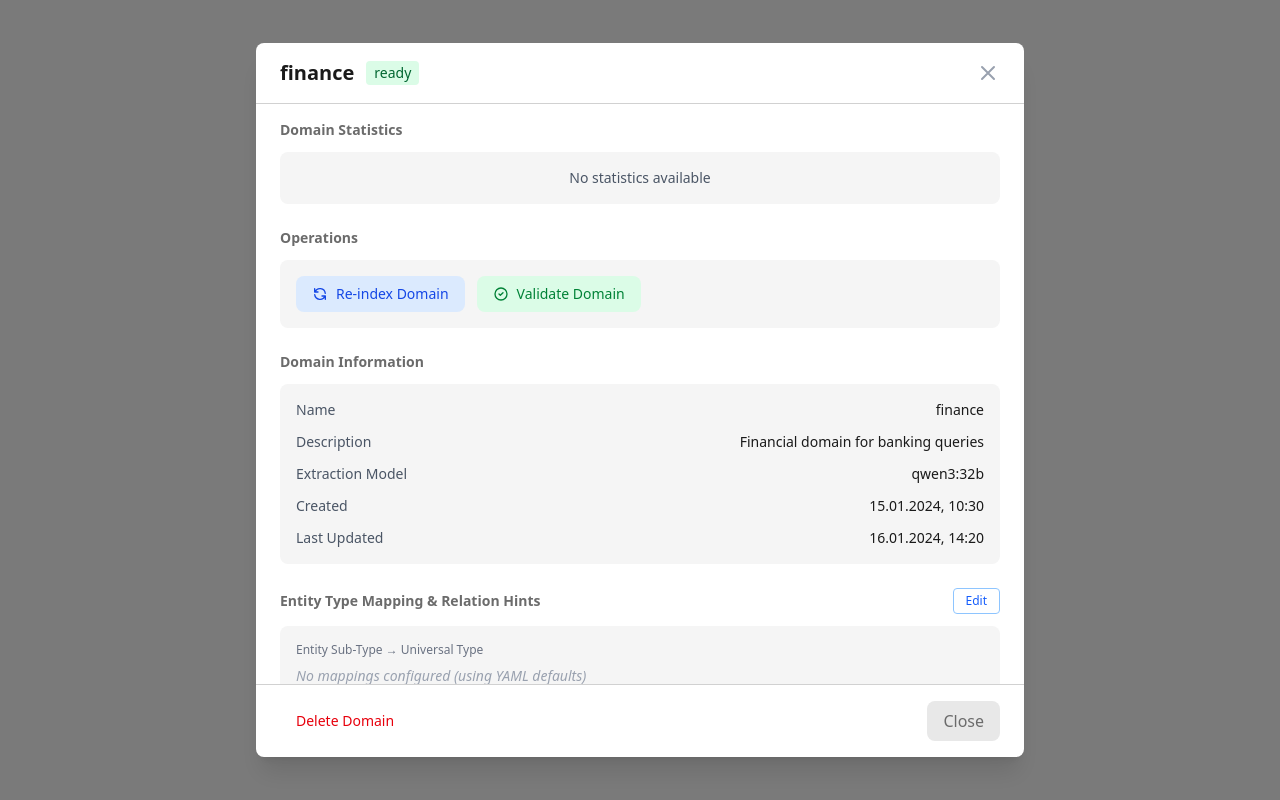
DomainDetailDialog › delete functionality › should display error message when deletion fails
The width and height of the screenshot is (1280, 800).
Note: Show confirmation
Click the button with test id "dialog-delete-button" at coordinates (345, 721), box [280,701,410,741]
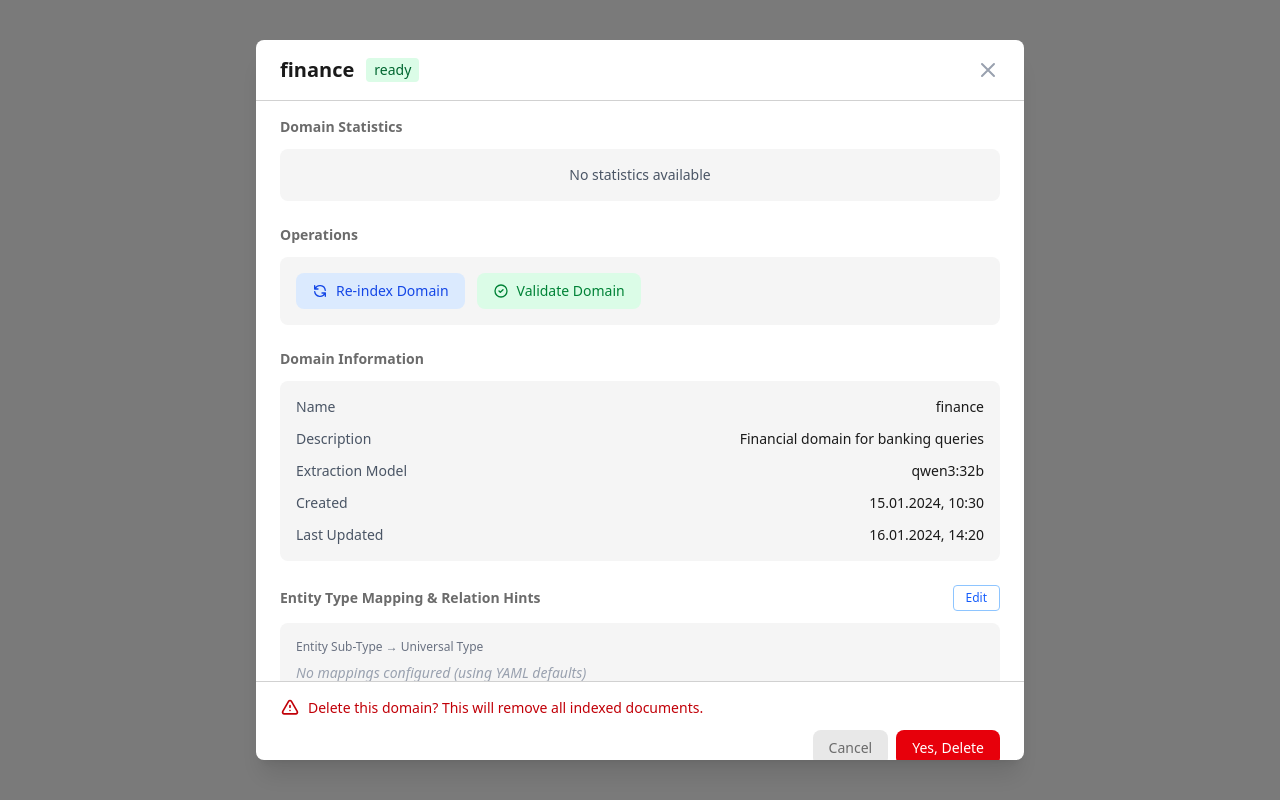
Note: Confirm deletion
Click the button with test id "dialog-delete-confirm-button" at coordinates (948, 748), box [896,730,1000,766]
(page scrolled)
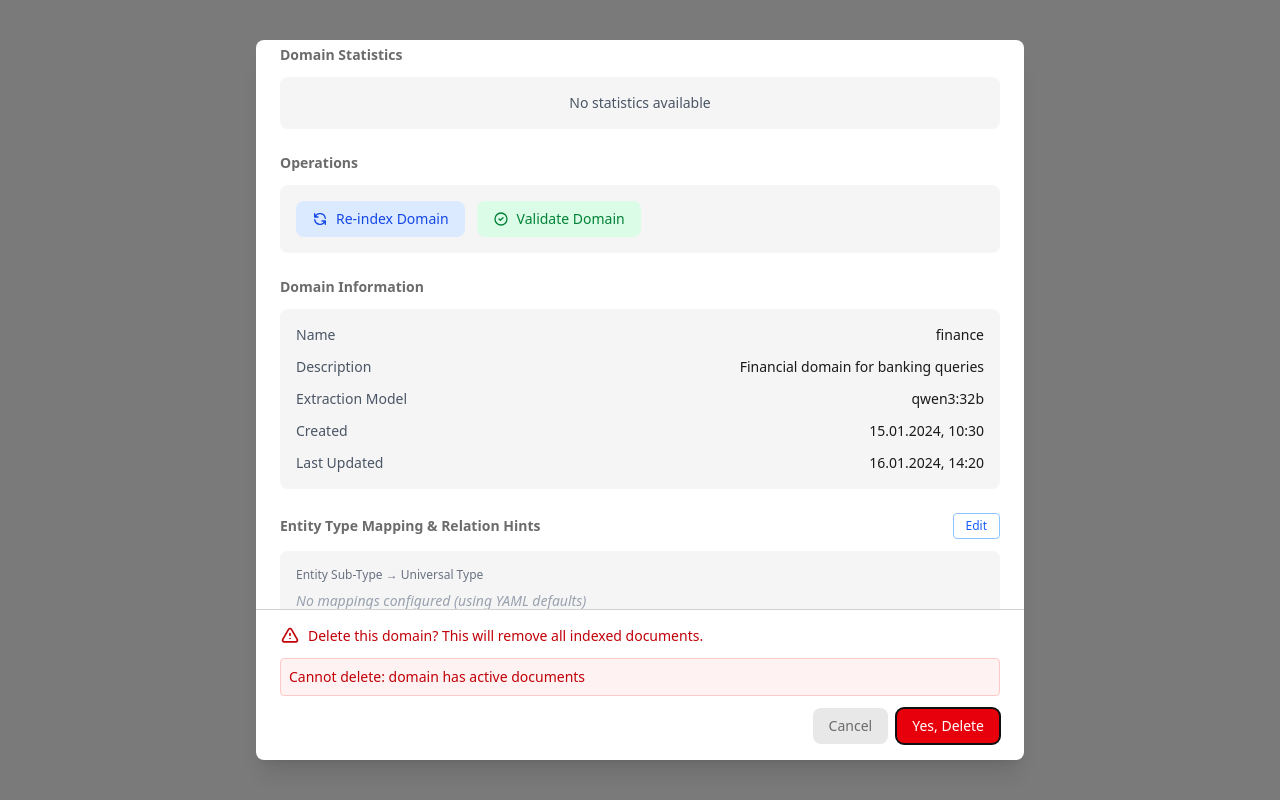
Check: the button with test id "dialog-delete-confirm-button" is shown, box [896,708,1000,744]
Check: the text "Cannot delete: domain has active documents" is shown, box [280,658,1000,696]
